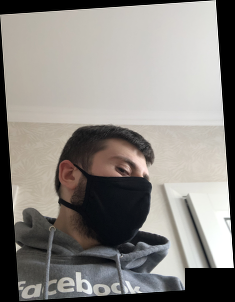with_mask: (85, 150, 152, 247)
